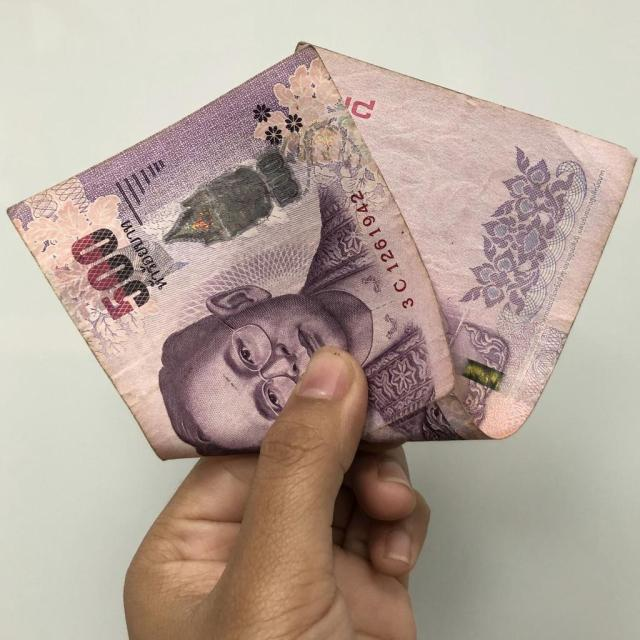THAI500: (8, 42, 634, 458)
